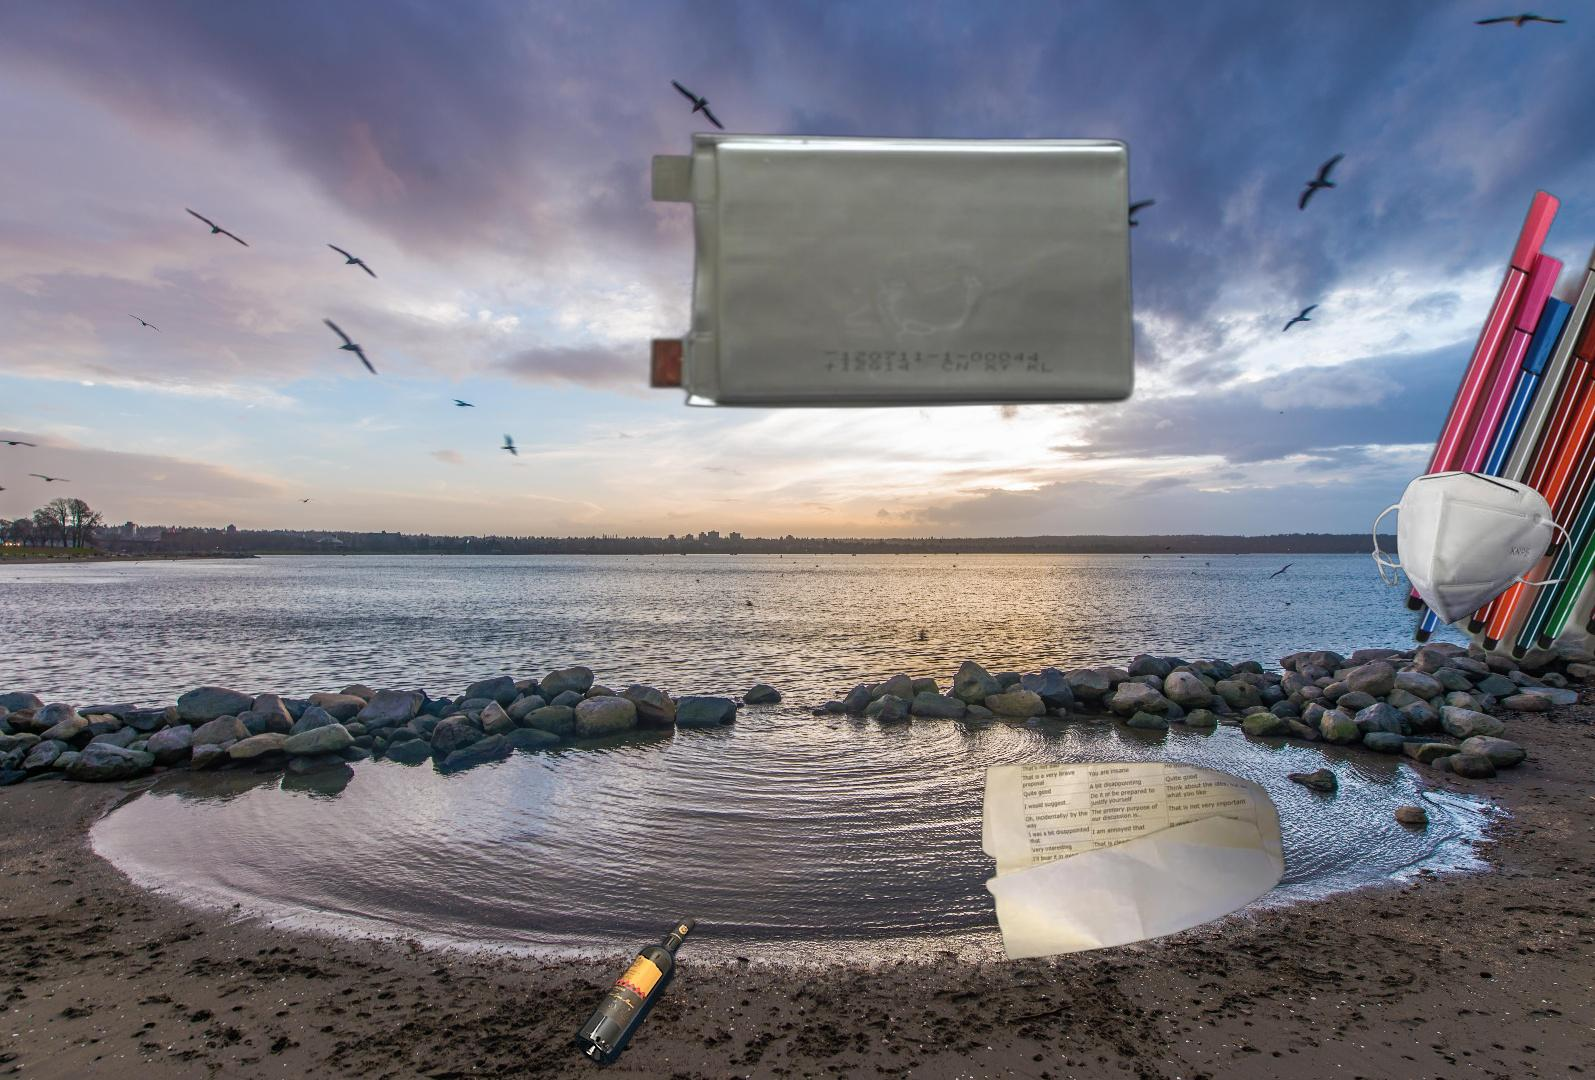battery: (643, 129, 1140, 413)
glass: (571, 912, 700, 1073)
paper: (977, 759, 1291, 963)
penholder: (1390, 184, 1595, 730)
trash: (1370, 468, 1583, 629)
